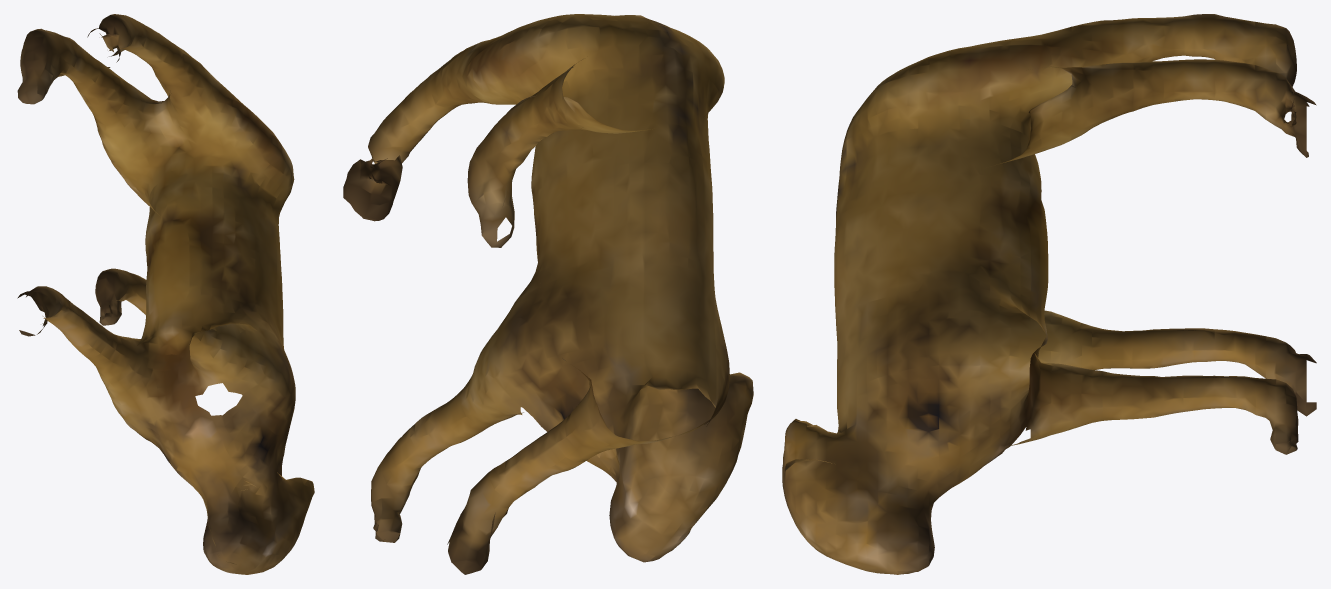
3 renders of one model, left to right at view 1: azimuth 30°, elevation 25°; view 2: azimuth 150°, elevation 25°; view 3: azimuth 270°, elevation 25°, orthographic. The views are drawn at different scales.
Parts seen in each view (by area): view 1: ff7a3771-35a6-4802-8df1-24e0eb666984; view 2: ff7a3771-35a6-4802-8df1-24e0eb666984; view 3: ff7a3771-35a6-4802-8df1-24e0eb666984.
Boxes of the visible parts, x1=… form: ff7a3771-35a6-4802-8df1-24e0eb666984: x1=17, y1=14, x2=314, y2=574; ff7a3771-35a6-4802-8df1-24e0eb666984: x1=343, y1=14, x2=753, y2=574; ff7a3771-35a6-4802-8df1-24e0eb666984: x1=782, y1=14, x2=1316, y2=574.
Size of the model in its own units: 0.2532 by 0.688 by 0.6195.
